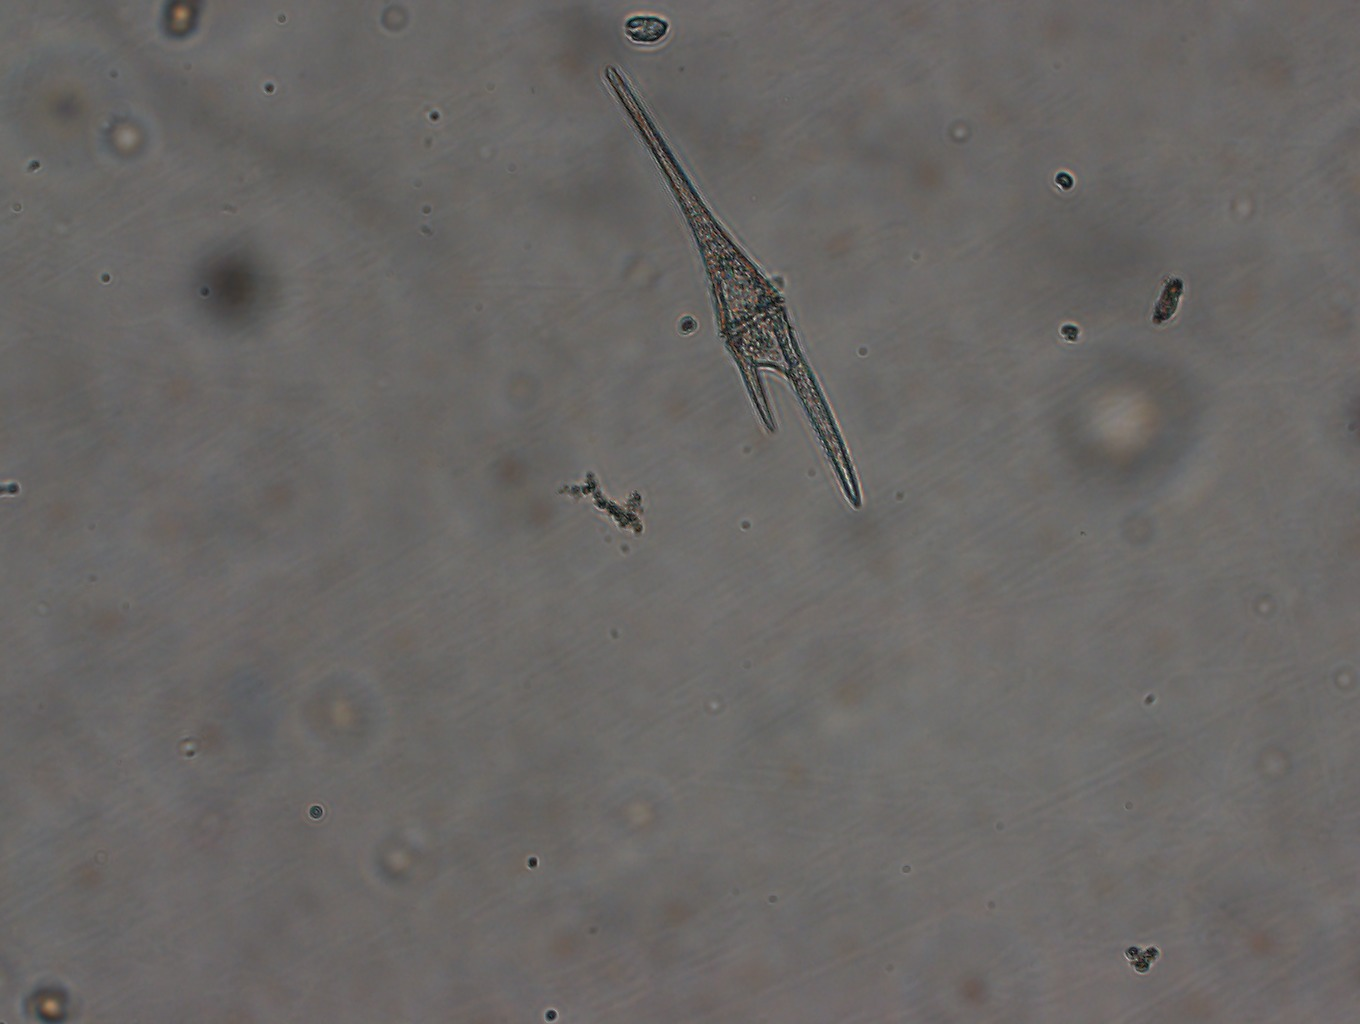ceratium furca: (595, 59, 864, 518)
